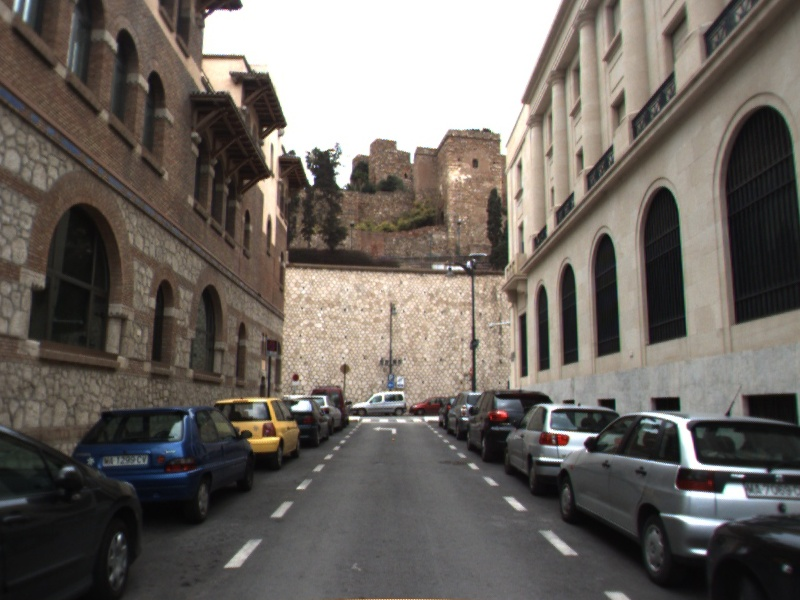LEFT: (371, 424, 399, 436)
